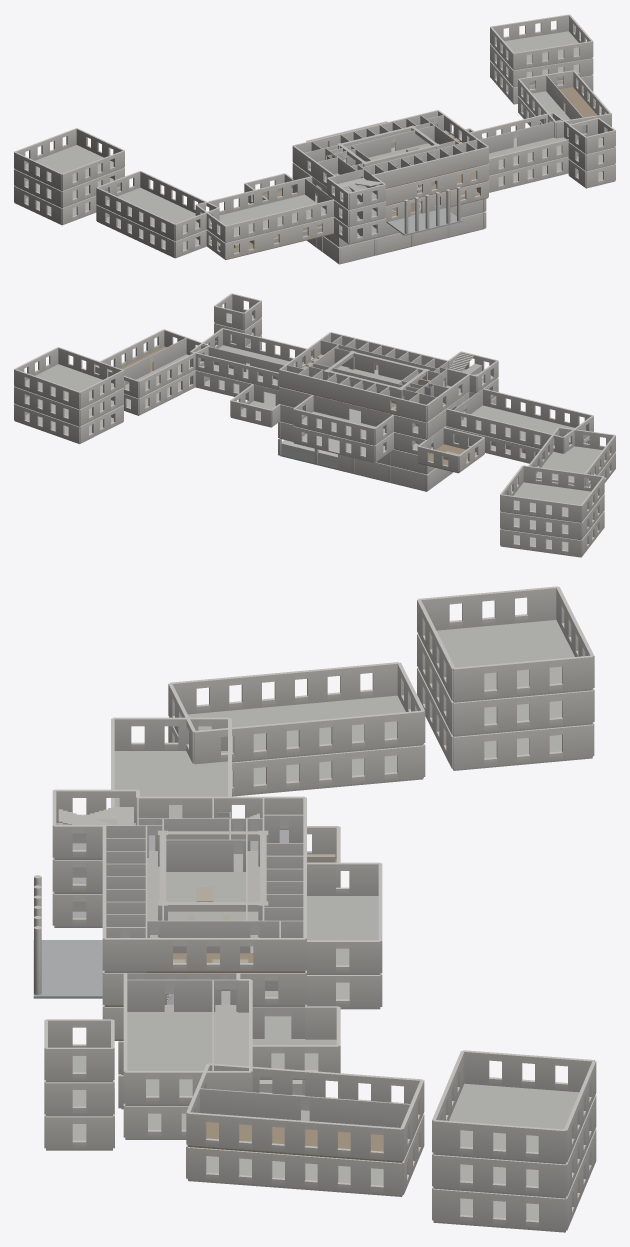
Rendered from house.glb.
3 views of the same model, one above another, from view 1: azimuth 30°, elevation 25°; view 2: azimuth 150°, elevation 25°; view 3: azimuth 270°, elevation 25° (orthographic). The views are drawn at different scales.
Visible parts, largest first — view 1: f_F2_struct, f_F3_struct, f_F1_struct, f_B2_struct, f_B1_struct; view 2: f_F2_struct, f_F3_struct, f_F1_struct, f_B2_struct, f_B1_struct, f_B2_med; view 3: f_F2_struct, f_F3_struct, f_F1_struct.
Boxes of the visible parts, left/top/right/bottom form: f_F2_struct: left=14, top=44, right=615, bottom=242; f_F3_struct: left=14, top=14, right=615, bottom=210; f_F1_struct: left=14, top=61, right=615, bottom=259; f_B2_struct: left=307, top=211, right=486, bottom=264; f_B1_struct: left=324, top=199, right=486, bottom=247; f_F2_struct: left=14, top=318, right=615, bottom=540; f_F3_struct: left=14, top=293, right=604, bottom=522; f_F1_struct: left=14, top=335, right=615, bottom=557; f_B2_struct: left=278, top=438, right=453, bottom=491; f_B1_struct: left=278, top=421, right=435, bottom=474; f_B2_med: left=281, top=440, right=337, bottom=468; f_F2_struct: left=44, top=634, right=596, bottom=1198; f_F3_struct: left=44, top=586, right=596, bottom=1164; f_F1_struct: left=33, top=668, right=596, bottom=1232.
Bounding box in the file's own units: 154 × 22.8 × 67.34.
